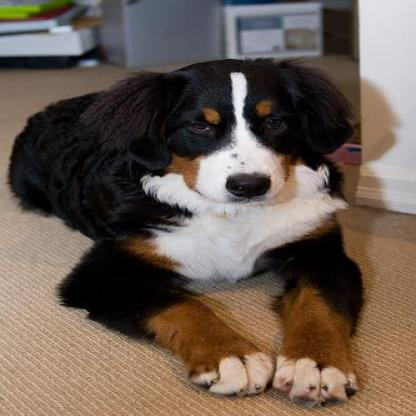Bernese_mountain_dog: (9, 57, 362, 407)
